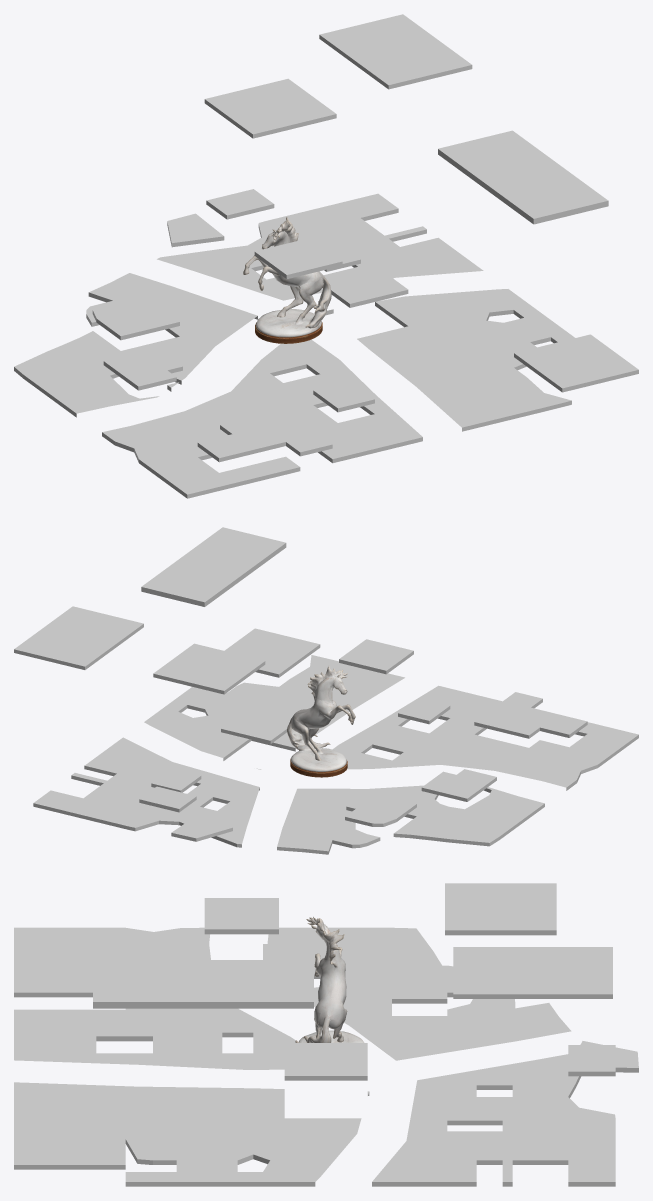
File: snow3.glb
3 views of the same model, one above another, from view 1: azimuth 30°, elevation 25°; view 2: azimuth 150°, elevation 25°; view 3: azimuth 270°, elevation 25° (orthographic). The views are drawn at different scales.
Parts seen in each view (by area): view 1: Plane, Plane.001, Cube.001, Cube.003, Cube.002, horse_statue_01, Plane.004, Cube, Plane.002; view 2: Plane, Plane.001, Cube.001, Cube.003, horse_statue_01, Cube.002, Plane.004, Cube, Plane.002, Plane.003; view 3: Plane, Plane.001, Cube.001, Cube.003, Cube.002, horse_statue_01, Plane.004, Cube, Plane.002, Plane.003.
Boxes of the visible parts, x1,y1,x2,y2 form: Plane: [14, 193, 574, 498]; Plane.001: [92, 213, 638, 462]; Cube.001: [438, 130, 608, 224]; Cube.003: [319, 14, 472, 89]; Cube.002: [204, 78, 336, 138]; horse_statue_01: [243, 217, 331, 343]; Plane.004: [322, 263, 408, 307]; Cube: [254, 238, 342, 278]; Plane.002: [206, 189, 274, 219]; Plane: [33, 655, 638, 854]; Plane.001: [171, 628, 587, 841]; Cube.001: [141, 527, 286, 606]; Cube.003: [14, 606, 143, 669]; horse_statue_01: [287, 665, 355, 777]; Cube.002: [153, 643, 265, 694]; Plane.004: [221, 706, 292, 744]; Cube: [339, 639, 413, 674]; Plane.002: [139, 786, 196, 812]; Plane.003: [151, 768, 201, 792]; Plane: [14, 927, 615, 1186]; Plane.001: [14, 936, 638, 1169]; Cube.001: [93, 960, 313, 1008]; Cube.003: [453, 947, 612, 998]; Cube.002: [445, 883, 556, 935]; horse_statue_01: [295, 917, 364, 1042]; Plane.004: [284, 1043, 367, 1080]; Cube: [204, 898, 278, 934]; Plane.002: [568, 1045, 615, 1076]; Plane.003: [447, 1101, 502, 1125].
Size of the model in its own units: 9.27 by 3.32 by 9.15.
2 materials, 2 textured.
